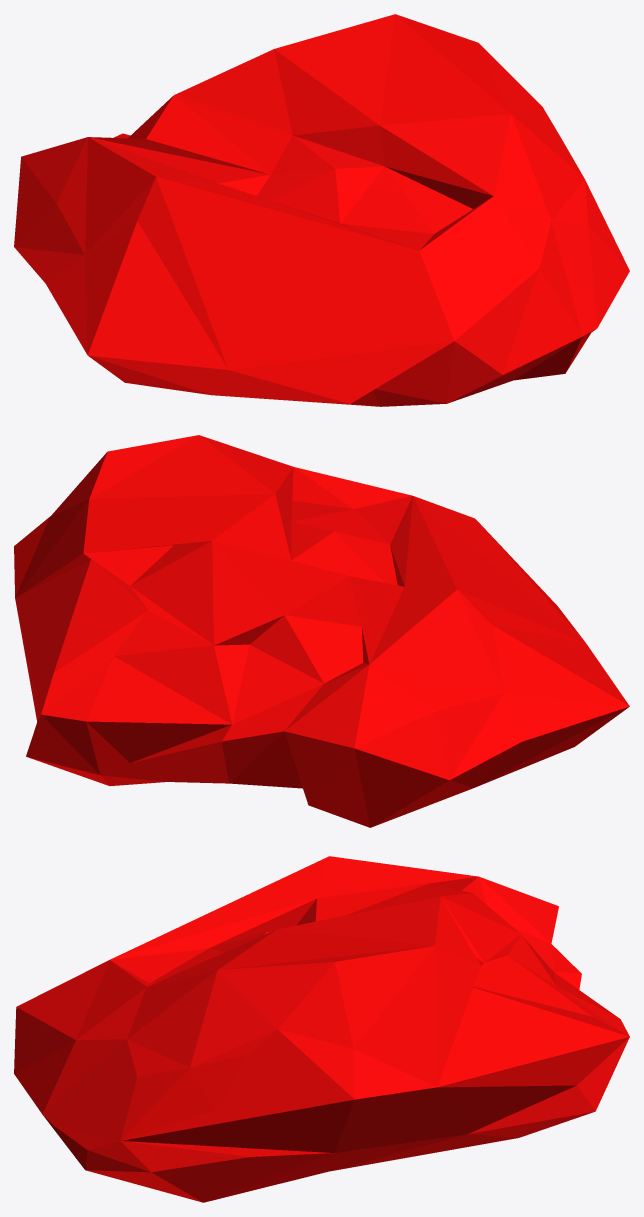
Rendered from meteor_red_form_core_03.glb.
3 renders of one model, top to bottom at view 1: azimuth 30°, elevation 25°; view 2: azimuth 150°, elevation 25°; view 3: azimuth 270°, elevation 25°, orthographic. The views are drawn at different scales.
Parts seen in each view (by area): view 1: Mesh1.001; view 2: Mesh1.001; view 3: Mesh1.001.
Boxes of the visible parts, x1,y1,x2,y2 form: Mesh1.001: (14,14,629,406); Mesh1.001: (14,435,629,827); Mesh1.001: (14,856,629,1202).
Bounding box in the file's own units: 1.52 × 0.6433 × 1.58.
